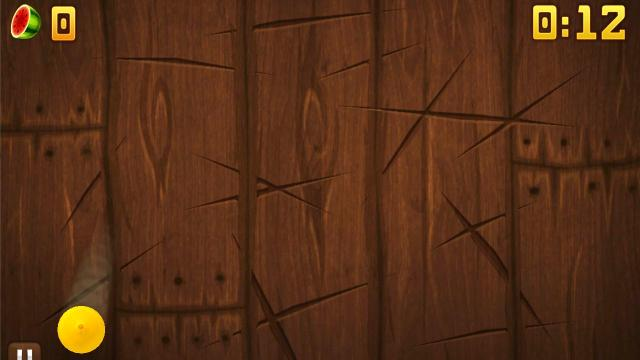fruit: (56, 304, 106, 354)
ignore: (9, 3, 43, 41)
